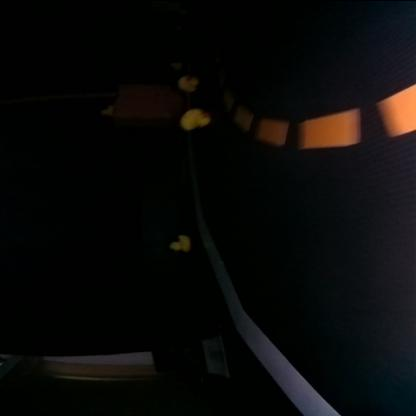Duckie: (180, 107, 210, 129), (170, 234, 190, 250), (178, 74, 196, 90), (102, 105, 114, 113)
